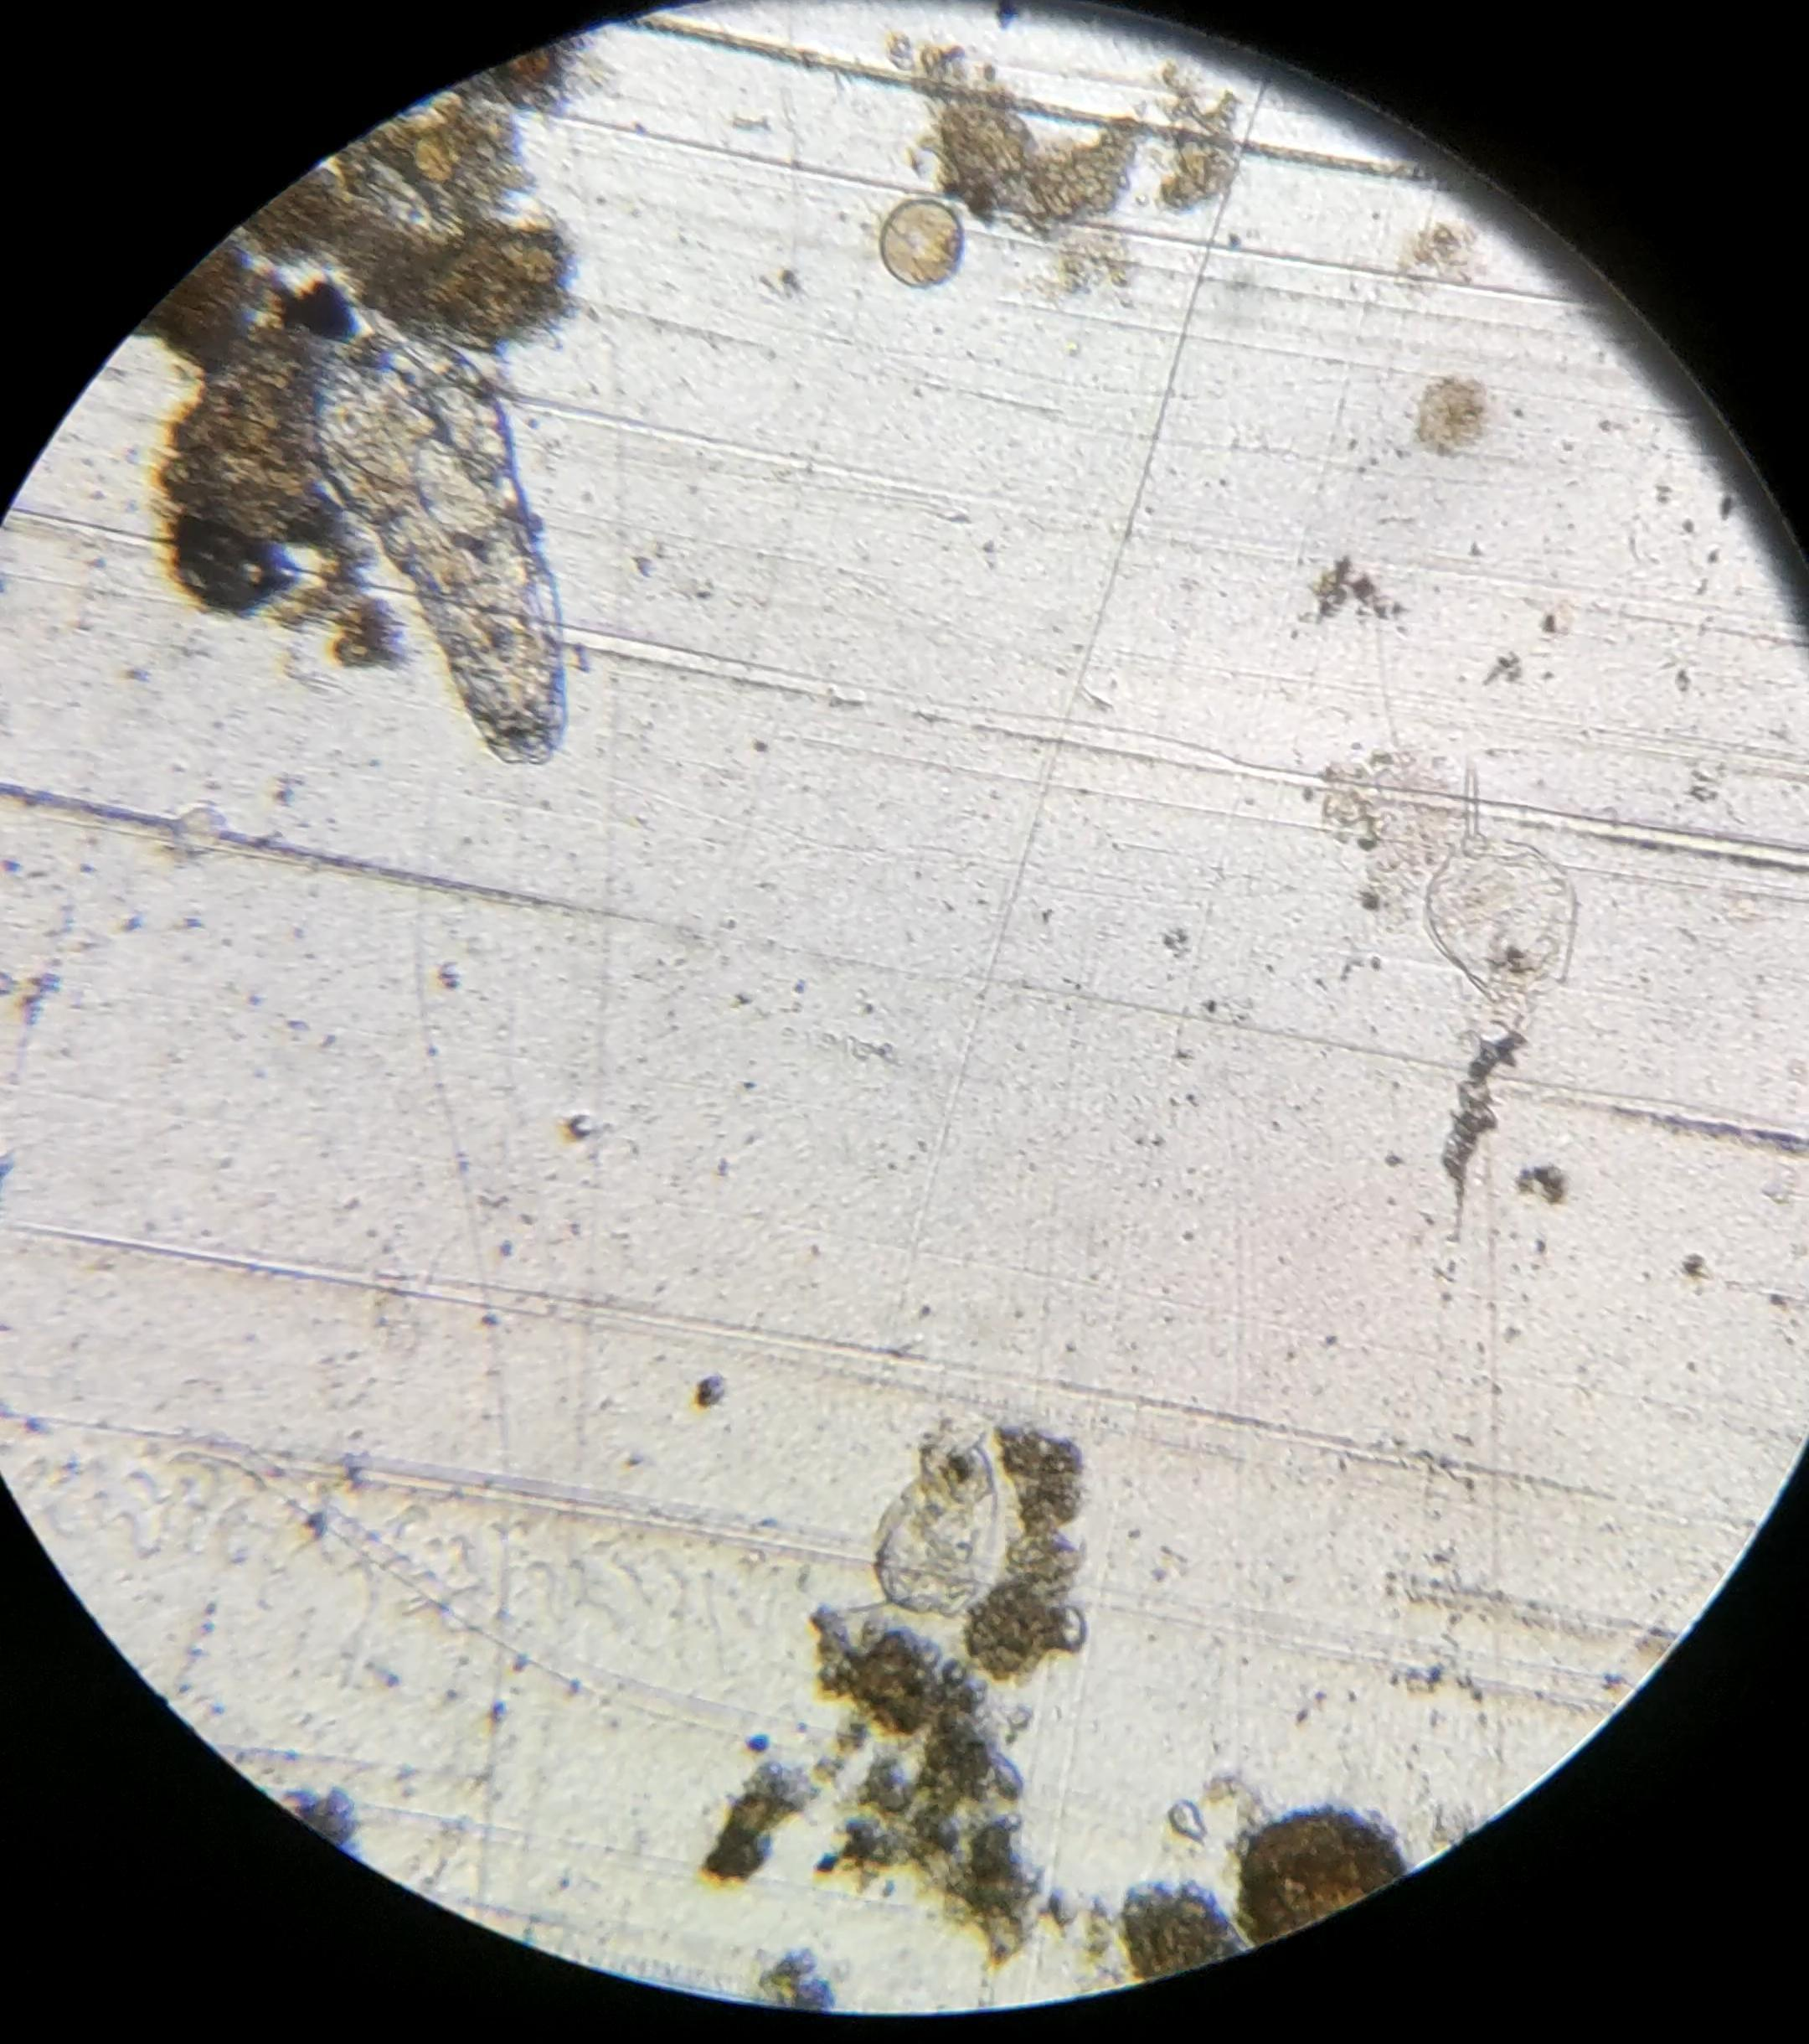Arcella: (1245, 1813, 1406, 1948), (882, 201, 962, 287)
Do: (309, 231, 567, 763)
Mo: (1427, 760, 1575, 1001), (845, 1441, 997, 1616)
